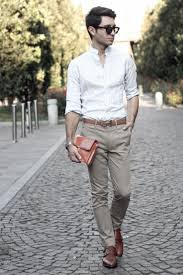F_belt: (76, 112, 138, 131)
F_shirt: (55, 42, 142, 126)
